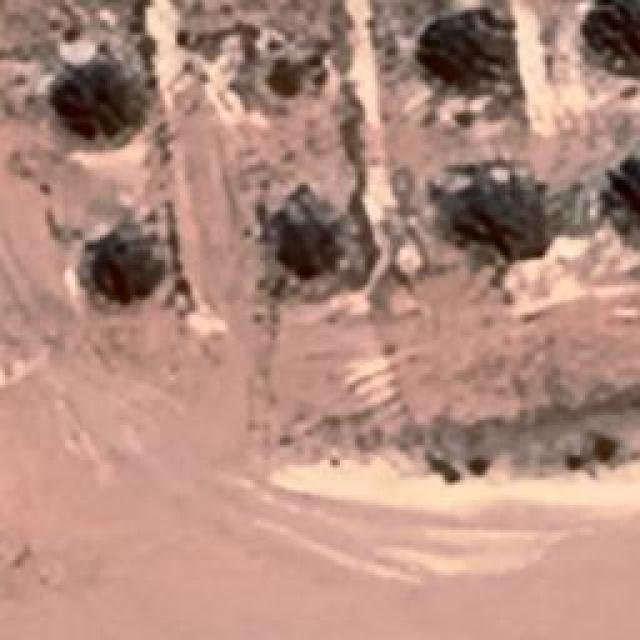PalmTree: (416, 16, 534, 109), (457, 165, 545, 260), (90, 228, 168, 320), (60, 55, 135, 143), (287, 196, 345, 274), (580, 0, 640, 62), (602, 166, 640, 262)
